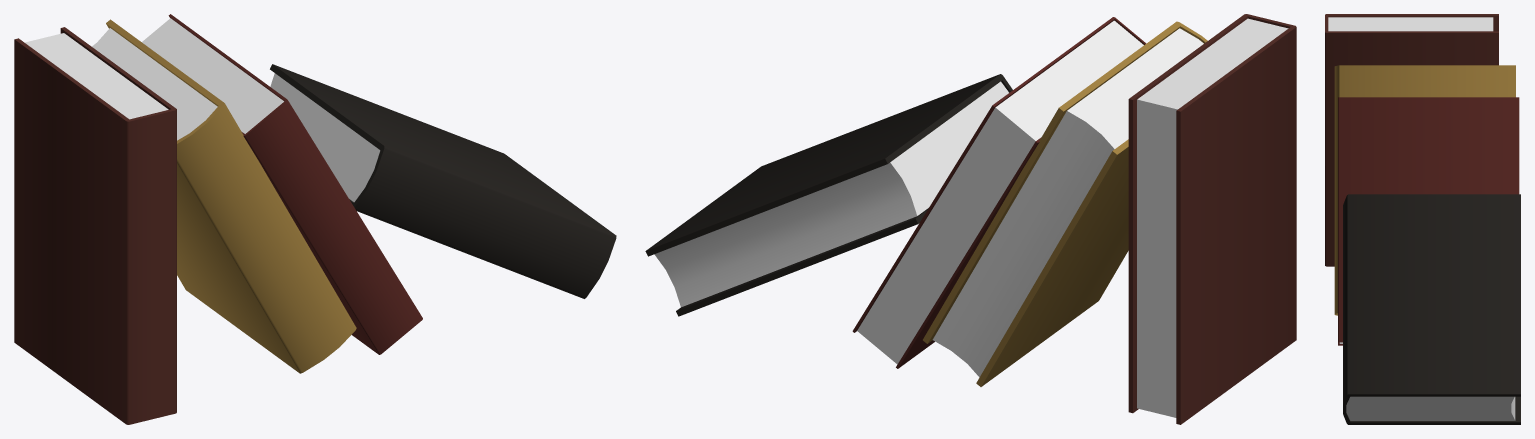
File: 070_books_tilted.glb
The picture shows the model from 3 angles, left to right: view 1: azimuth 30°, elevation 25°; view 2: azimuth 150°, elevation 25°; view 3: azimuth 270°, elevation 25°; orthographic projection. The views are drawn at different scales.
Visible parts, largest first — view 1: Plane, Plane.010, Plane.005, Plane.001; view 2: Plane, Plane.005, Plane.010, Plane.001; view 3: Plane.010, Plane.001, Plane, Plane.005.
Boxes of the visible parts, x1,y1,x2,y2 form: Plane: [14, 27, 176, 424]; Plane.010: [270, 64, 616, 298]; Plane.005: [92, 19, 356, 373]; Plane.001: [142, 14, 422, 354]; Plane: [1128, 14, 1296, 424]; Plane.005: [923, 21, 1207, 386]; Plane.010: [645, 74, 1012, 316]; Plane.001: [852, 17, 1146, 368]; Plane.010: [1343, 194, 1520, 424]; Plane.001: [1338, 97, 1519, 345]; Plane: [1325, 14, 1498, 266]; Plane.005: [1334, 65, 1515, 315].
Bounding box in the file's own units: 1.3 × 0.749 × 0.5692.
